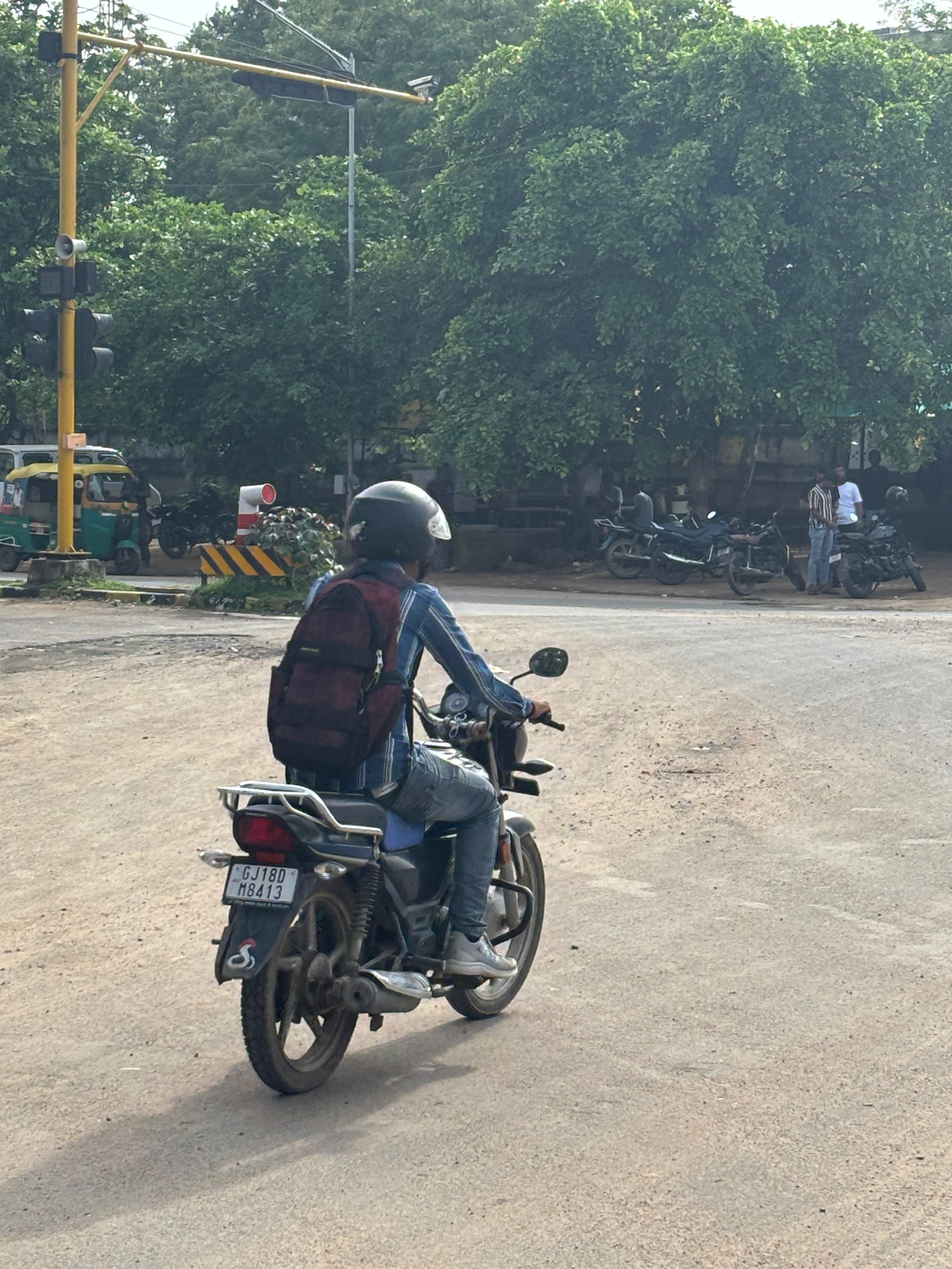BikeWithRider: (195, 475, 581, 1096)
Helmet: (341, 475, 453, 598)
